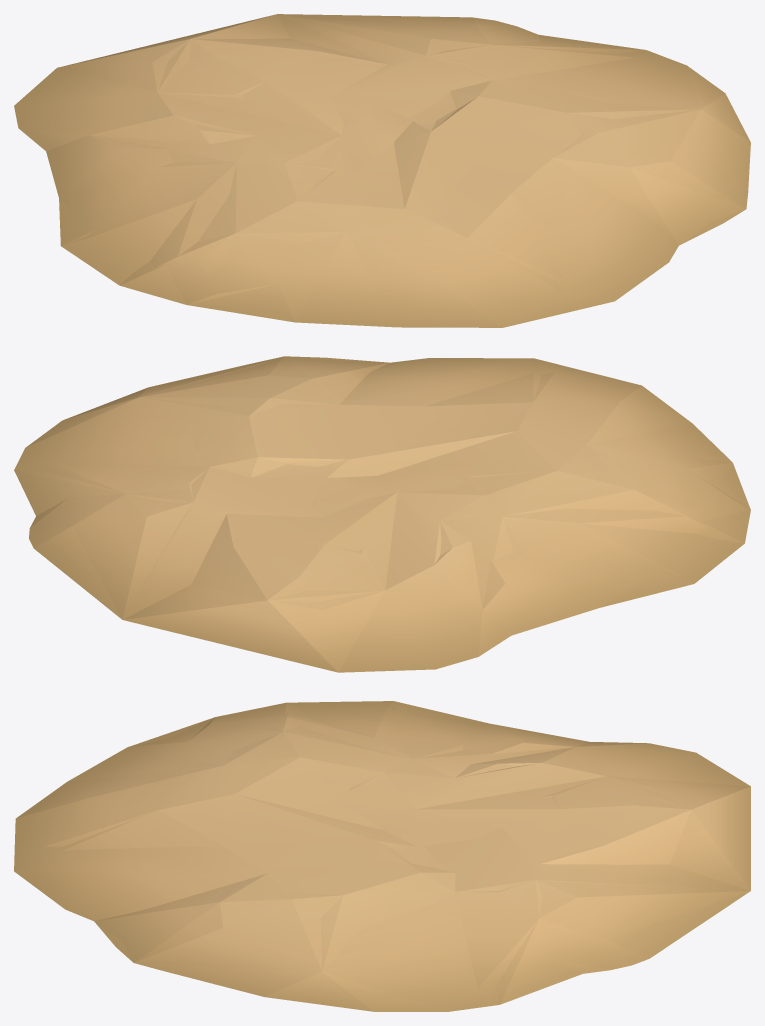
Rendered from Flat Sand 02.fbx.
The picture shows the model from 3 angles, top to bottom: view 1: azimuth 30°, elevation 25°; view 2: azimuth 150°, elevation 25°; view 3: azimuth 270°, elevation 25°; orthographic projection. The views are drawn at different scales.
Visible parts, largest first — view 1: Flat Sand 02 high, Flat Sand 02; view 2: Flat Sand 02 high, Flat Sand 02; view 3: Flat Sand 02 high, Flat Sand 02.
Boxes of the visible parts, x1,y1,x2,y2 form: Flat Sand 02 high: [14, 14, 750, 327]; Flat Sand 02: [59, 14, 750, 327]; Flat Sand 02 high: [14, 356, 750, 672]; Flat Sand 02: [14, 356, 750, 619]; Flat Sand 02 high: [14, 701, 750, 1011]; Flat Sand 02: [62, 701, 749, 1004].
Bounding box in the file's own units: 10.5 × 0.5361 × 10.51.
1 material, 1 textured.
